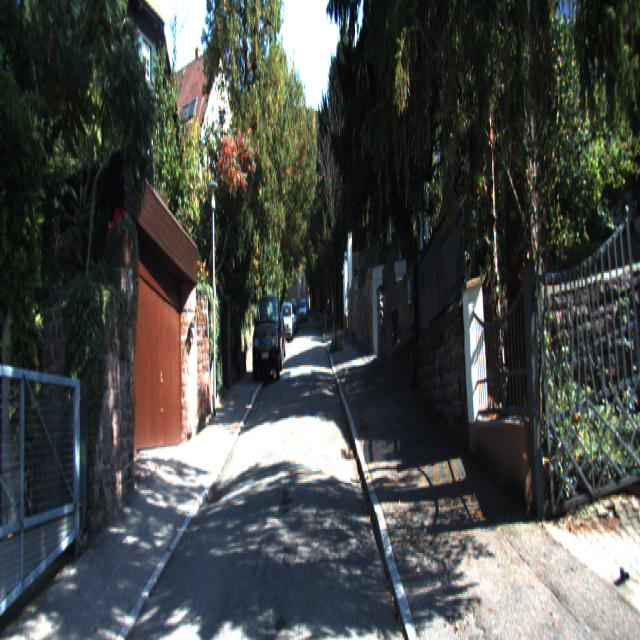Car: (251, 294, 282, 389), (281, 300, 295, 343)
